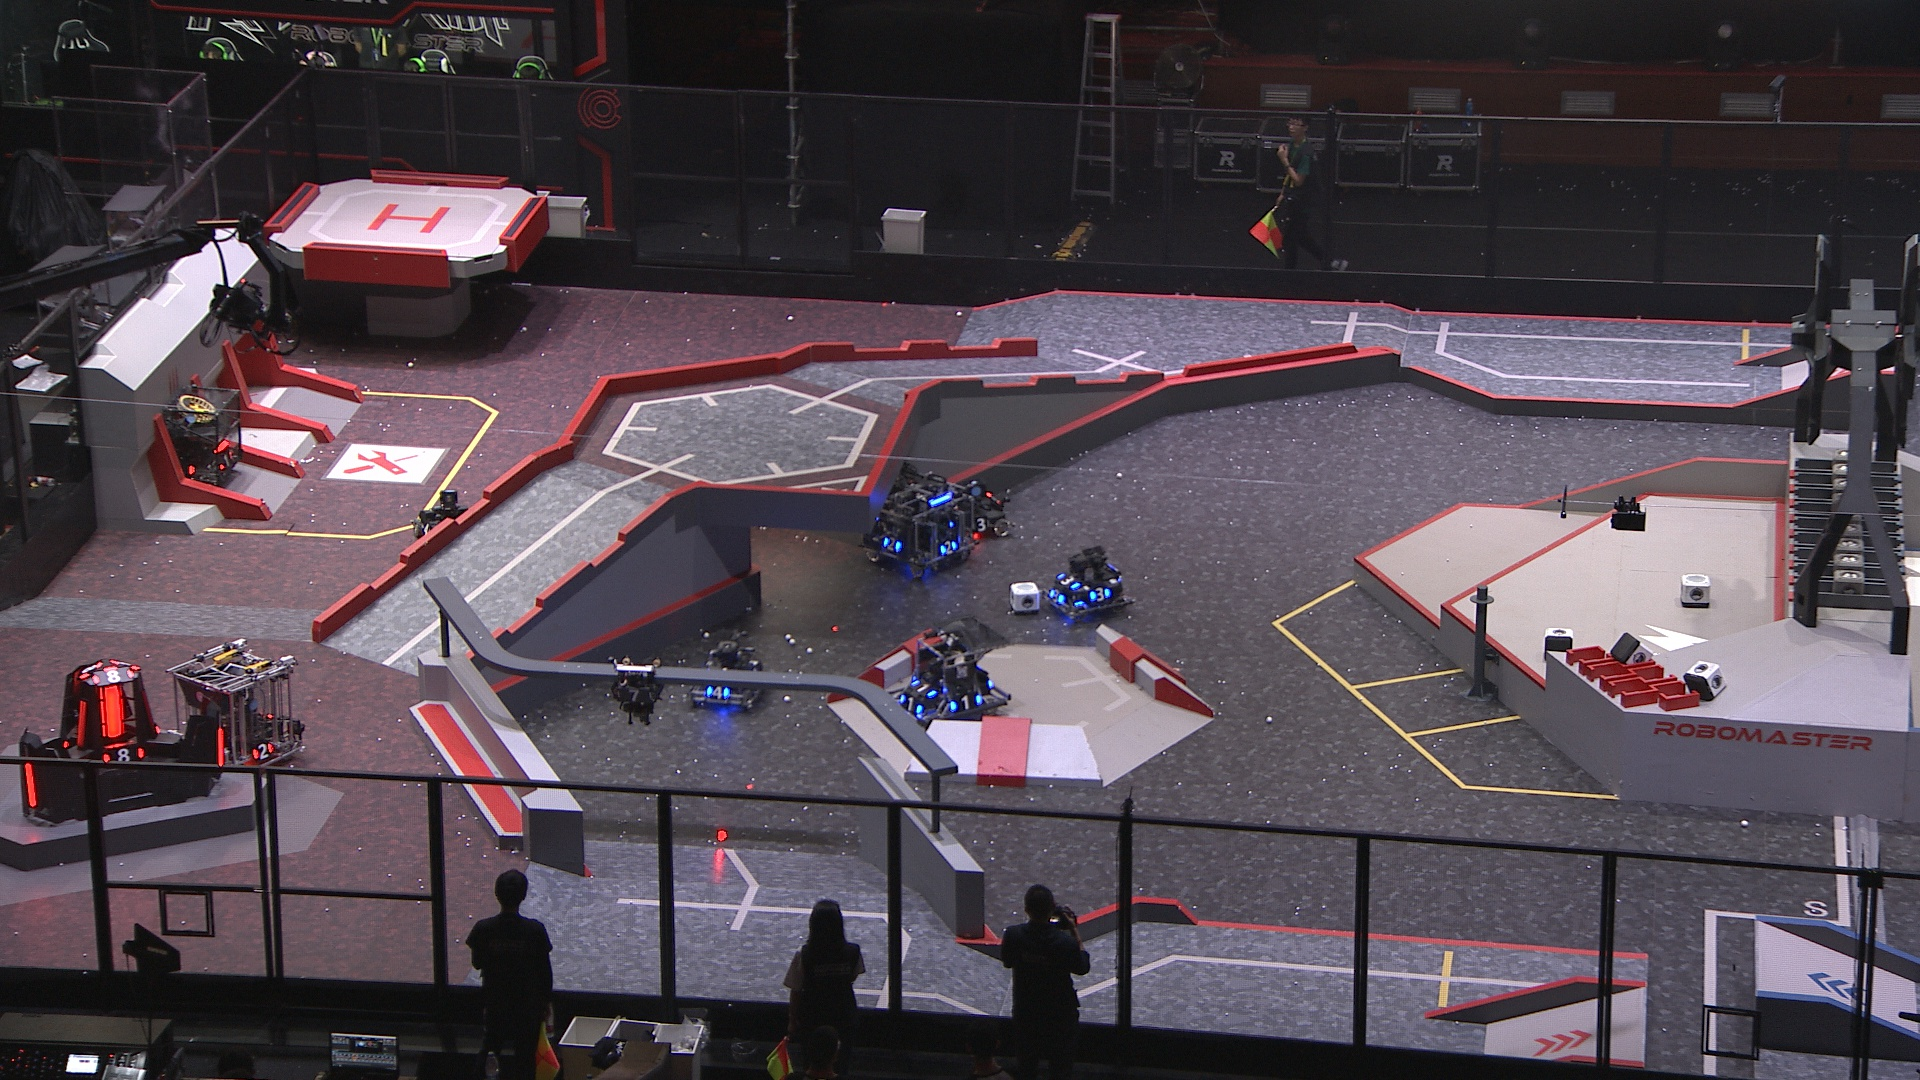armor: (96, 683, 128, 738), (102, 746, 146, 766), (22, 760, 38, 808), (91, 669, 135, 684), (895, 694, 923, 716), (949, 694, 982, 712), (613, 688, 651, 704), (215, 727, 228, 765), (249, 742, 273, 764), (878, 535, 903, 555), (76, 702, 87, 746), (1087, 585, 1112, 603), (910, 678, 935, 695), (76, 661, 98, 680), (1058, 572, 1081, 589), (215, 451, 235, 469), (704, 687, 733, 699), (972, 518, 992, 535), (1048, 589, 1069, 605), (939, 541, 959, 556), (419, 522, 433, 537)
base: (12, 659, 231, 825)
car: (167, 637, 305, 771), (884, 618, 1011, 735), (856, 460, 975, 578), (140, 382, 243, 491), (1040, 543, 1139, 626), (684, 637, 769, 708), (939, 479, 1017, 542), (410, 489, 483, 556)
watcher: (609, 659, 665, 725)
